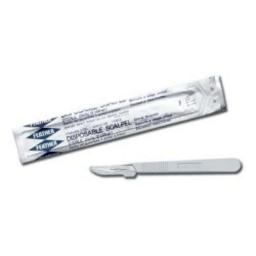scalpel: (88, 158, 244, 180)
